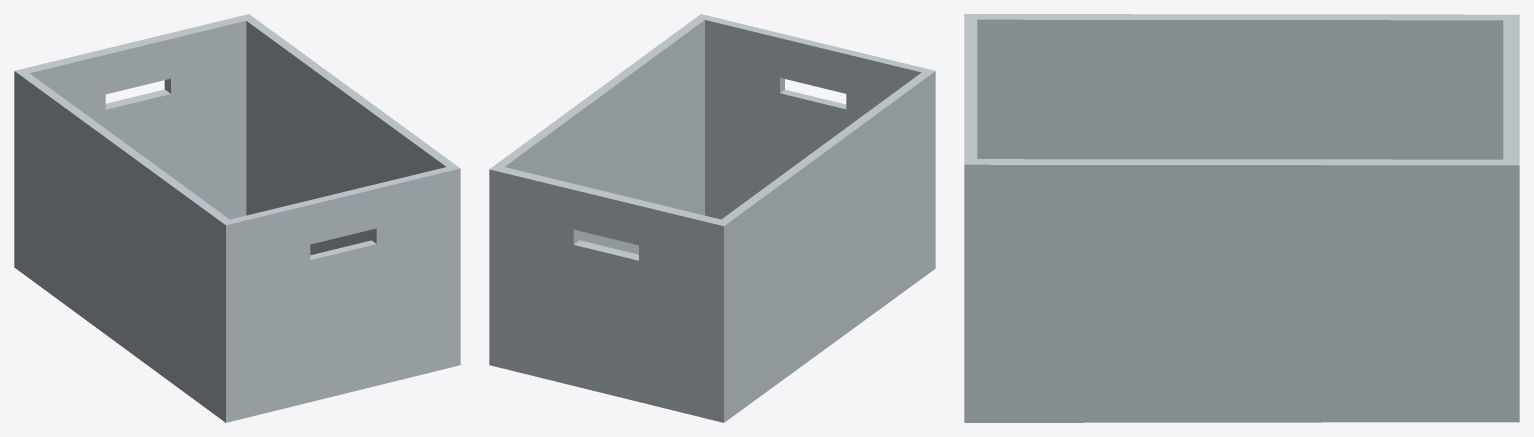
The model's file is warehouse_034.glb.
3 views of the same model, side by side, from view 1: azimuth 30°, elevation 25°; view 2: azimuth 150°, elevation 25°; view 3: azimuth 270°, elevation 25° (orthographic). The views are drawn at different scales.
Visible parts, largest first — view 1: warehouse_034; view 2: warehouse_034; view 3: warehouse_034.
Boxes of the visible parts, box(x1,y1,x2,y2) form: warehouse_034: box(14, 14, 460, 422); warehouse_034: box(489, 14, 935, 422); warehouse_034: box(964, 14, 1519, 422).
Bounding box in the file's own units: 0.418 × 0.3363 × 0.6528.
Materials: 1 (1 with a texture image).
